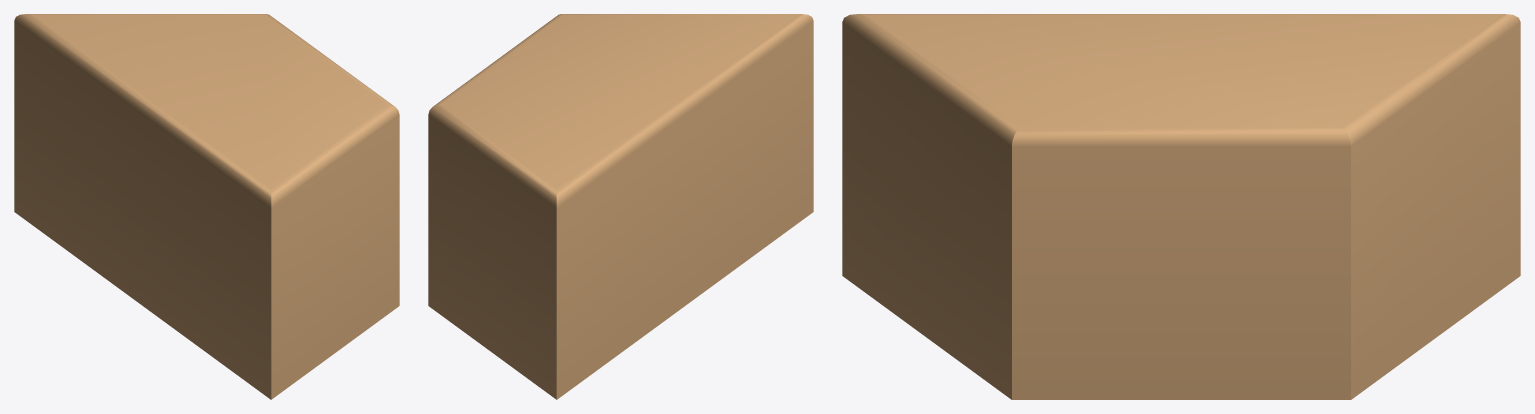
Rendered from hex_sand_waterB_empty.glb.
3 views of the same model, side by side, from view 1: azimuth 30°, elevation 25°; view 2: azimuth 150°, elevation 25°; view 3: azimuth 270°, elevation 25° (orthographic). The views are drawn at different scales.
Parts seen in each view (by area): view 1: hex_sand_waterB_empty; view 2: hex_sand_waterB_empty; view 3: hex_sand_waterB_empty.
Part boxes in pixels (box(x1,y1,x2,y2)): hex_sand_waterB_empty: box(14, 14, 399, 399); hex_sand_waterB_empty: box(428, 14, 813, 399); hex_sand_waterB_empty: box(842, 14, 1520, 399).
Size of the model in its own units: 1 by 1 by 2.31.
